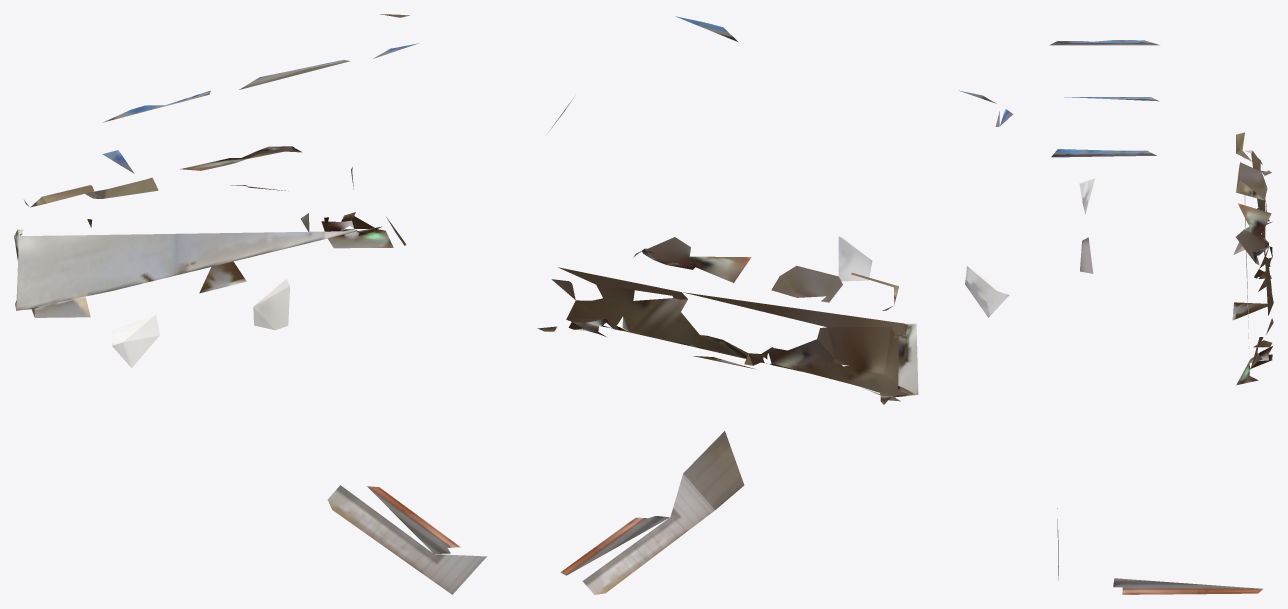
The model's file is altar.glb.
The picture shows the model from 3 angles, left to right: view 1: azimuth 30°, elevation 25°; view 2: azimuth 150°, elevation 25°; view 3: azimuth 270°, elevation 25°; orthographic projection. The views are drawn at different scales.
Visible parts, largest first — view 1: Node; view 2: Node; view 3: Node.
Part boxes in pixels (<box>): Node: <box>14,14,486,594</box>; Node: <box>537,16,1012,594</box>; Node: <box>1049,40,1273,594</box>.
Size of the model in its own units: 3.77 by 4.67 by 2.19.
Materials: 1 (1 with a texture image).
